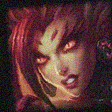Zyra: (15, 4, 111, 110)
